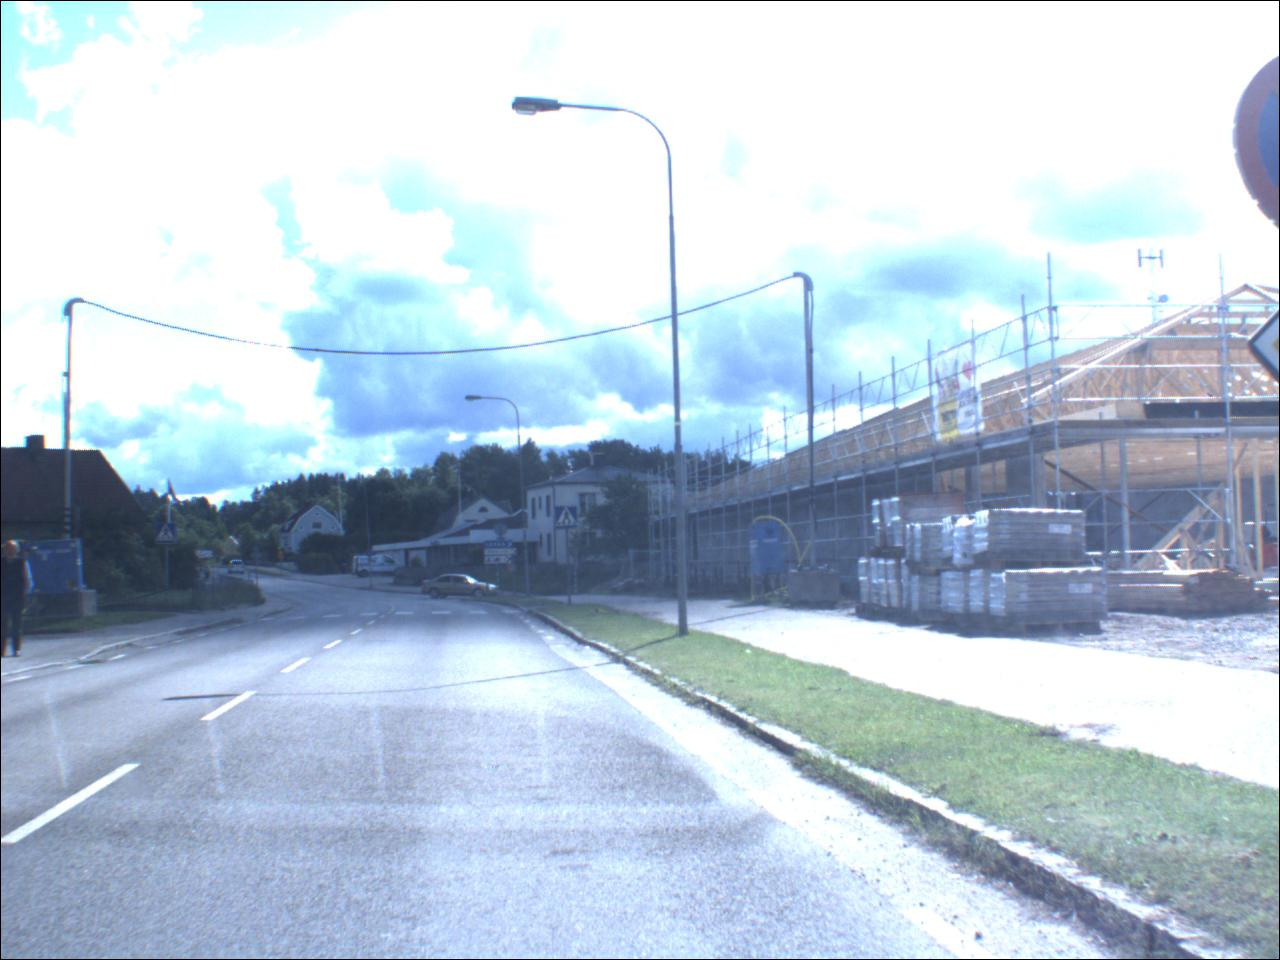NO_STOPPING_NO_STANDING: (1230, 49, 1276, 228)
PEDESTRIAN_CROSSING: (557, 508, 581, 532), (158, 525, 178, 546)
PRIORITY_ROAD: (1240, 293, 1279, 381)
